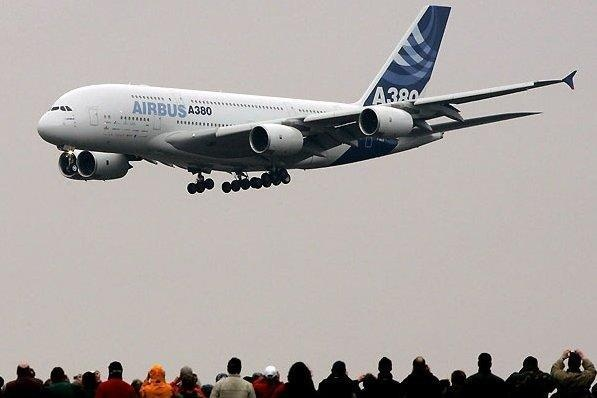airplane: (33, 4, 580, 191)
